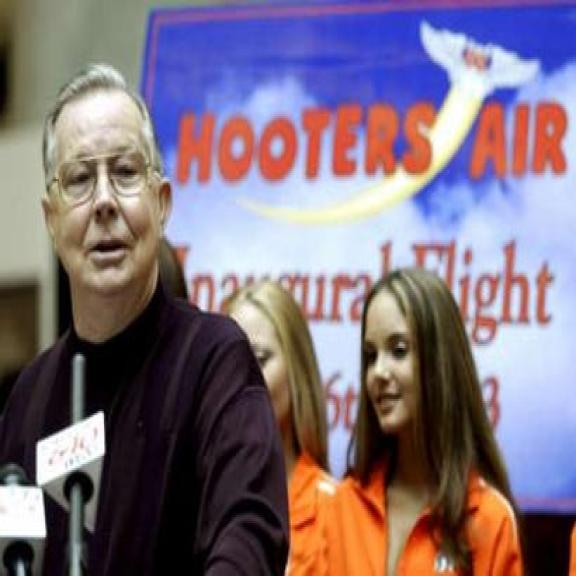face: (40, 98, 174, 306), (362, 289, 426, 445)
